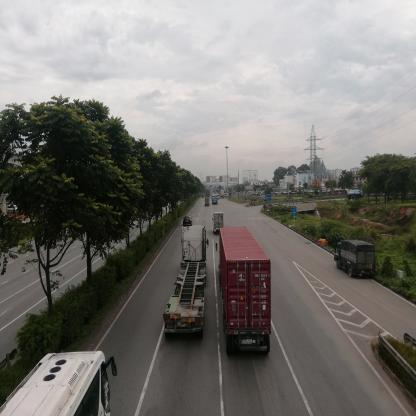bus: (7, 354, 116, 416), (213, 196, 219, 203)
car: (184, 216, 193, 228)
container: (220, 228, 271, 354), (182, 227, 205, 326)
truck: (335, 239, 376, 280), (213, 211, 224, 230), (348, 191, 363, 201)
